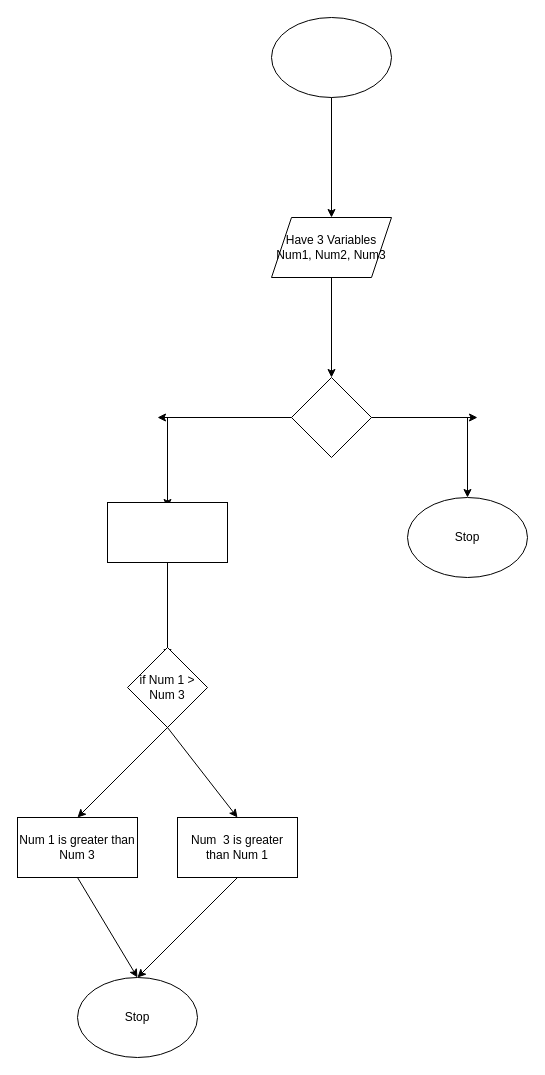
This 545x1075 diagram has some shape labels left out. Each missing label, with the centre of its shape:
"If Num1 > Num2" belongs at pixel 331 417.
"Num1 is greater than Num 2" belongs at pixel 167 532.
"Start" belongs at pixel 331 57.
